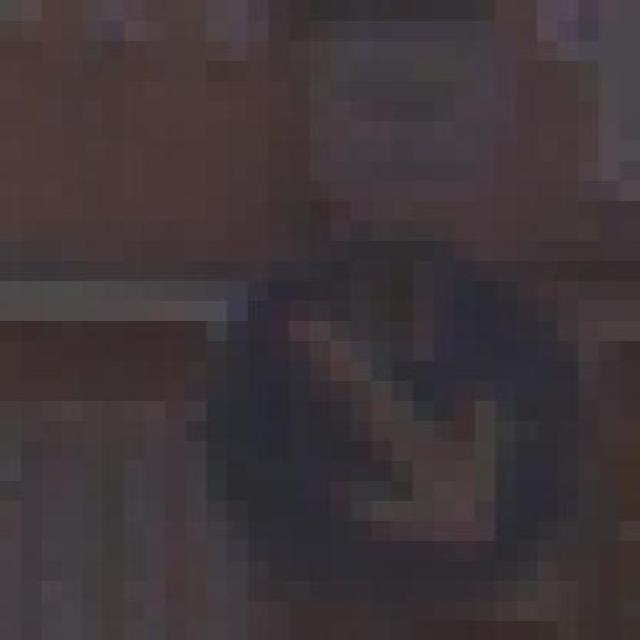Keep-Right: (166, 200, 600, 620)
